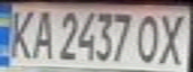2: (54, 8, 81, 62)
3: (93, 9, 115, 63)
4: (75, 8, 96, 61)
7: (112, 10, 136, 63)
A: (27, 7, 57, 61)
K: (3, 6, 39, 61)
O: (133, 10, 166, 64)
X: (154, 10, 193, 66)
